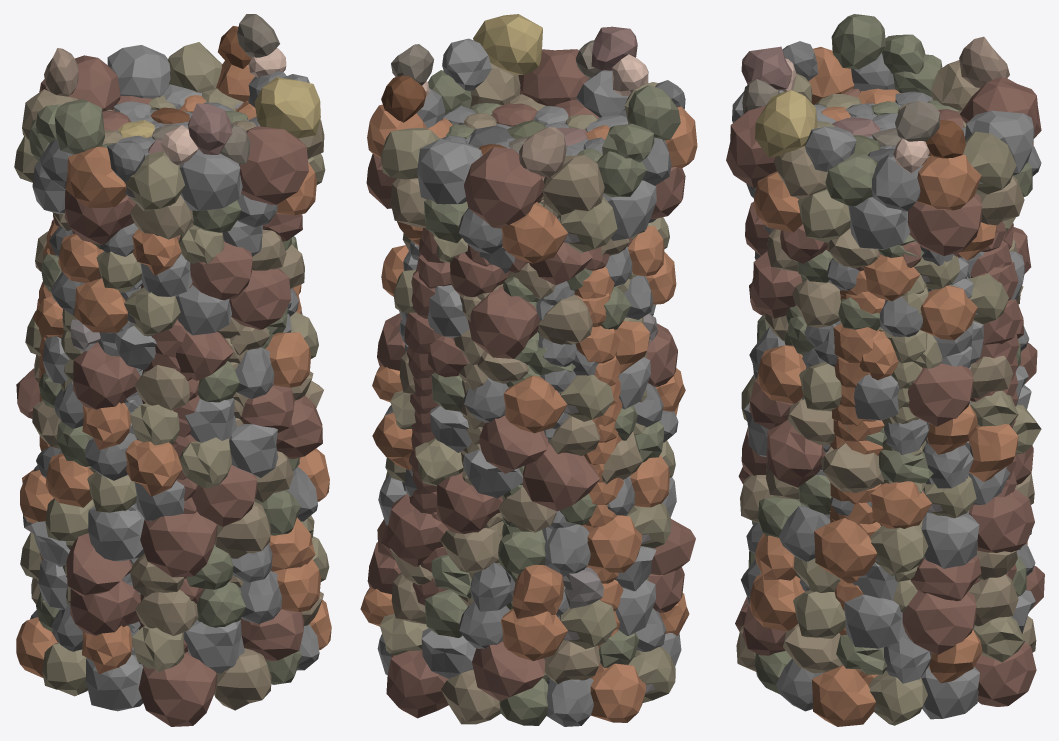
Rendered from rock_tower.fbx.
The picture shows the model from 3 angles, left to right: view 1: azimuth 30°, elevation 25°; view 2: azimuth 150°, elevation 25°; view 3: azimuth 270°, elevation 25°; orthographic projection.
Visible parts, largest first — view 1: Icosphere.015; view 2: Icosphere.015; view 3: Icosphere.015.
Boxes of the visible parts, box(x1,y1,x2,y2) form: Icosphere.015: box(14, 14, 331, 726); Icosphere.015: box(360, 14, 697, 726); Icosphere.015: box(726, 14, 1044, 726).
Size of the model in its own units: 98.69 by 217 by 100.
